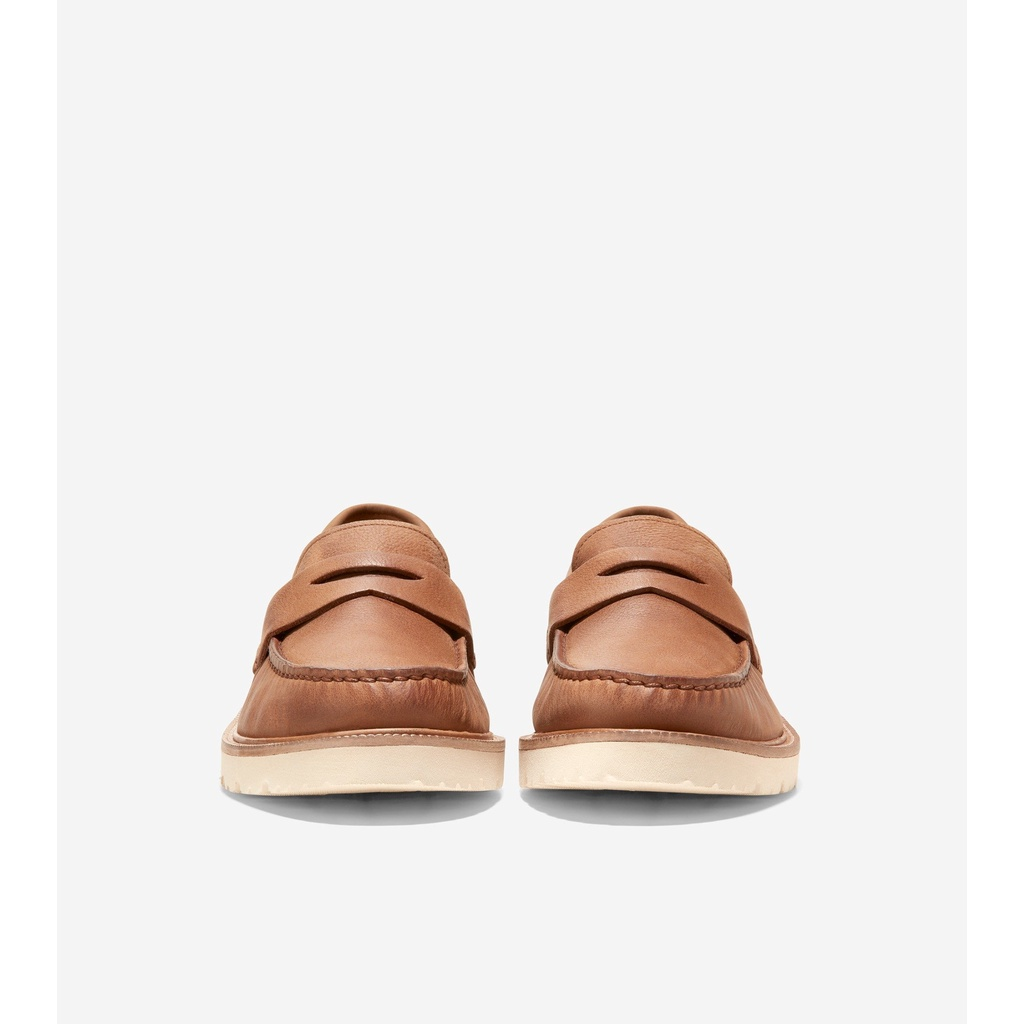loafers: (218, 503, 505, 804), (521, 504, 805, 804)
